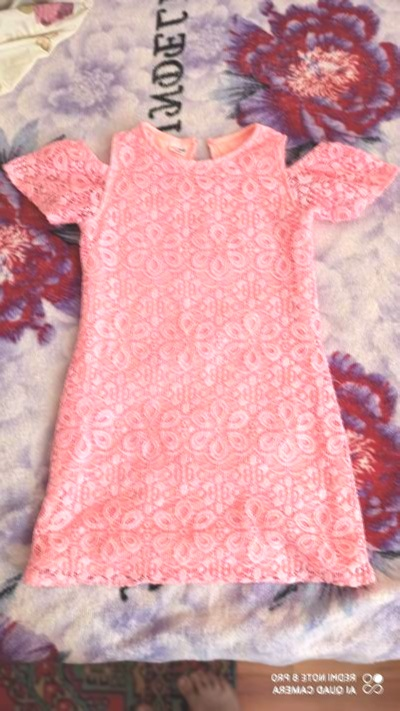Dress: (1, 90, 400, 612)
